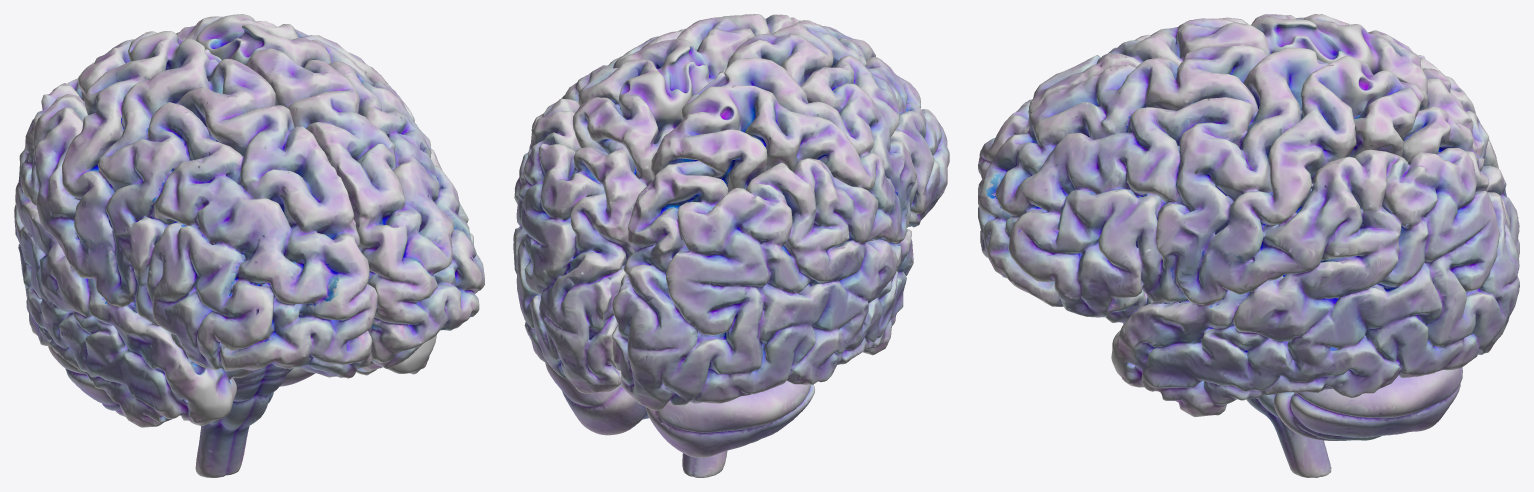
The model's file is brain.glb.
3 views of the same model, side by side, from view 1: azimuth 30°, elevation 25°; view 2: azimuth 150°, elevation 25°; view 3: azimuth 270°, elevation 25° (orthographic). The views are drawn at different scales.
Parts seen in each view (by area): view 1: cortex_r, cortex_l, dlpfc_r, dlpfc_l, brainstem, insula_r, ofc_r, cerebellum, ofc_l; view 2: cortex_r, cortex_l, cerebellum, dlpfc_r, brainstem, insula_r; view 3: cortex_l, cortex_r, dlpfc_l, cerebellum, brainstem, insula_l, ofc_l.
Part boxes in pixels (left/top/right/bottom): cortex_r: left=14, top=31, right=377, bottom=427; cortex_l: left=176, top=14, right=483, bottom=375; dlpfc_r: left=146, top=102, right=338, bottom=350; dlpfc_l: left=332, top=61, right=484, bottom=292; brainstem: left=195, top=363, right=293, bottom=477; insula_r: left=61, top=238, right=137, bottom=307; ofc_r: left=173, top=330, right=371, bottom=377; cerebellum: left=48, top=346, right=314, bottom=416; ofc_l: left=368, top=294, right=474, bottom=368; cortex_r: left=612, top=20, right=949, bottom=410; cortex_l: left=513, top=14, right=821, bottom=393; cerebellum: left=545, top=363, right=814, bottom=457; dlpfc_r: left=800, top=55, right=949, bottom=166; brainstem: left=682, top=451, right=727, bottom=477; insula_r: left=869, top=191, right=907, bottom=245; cortex_l: left=978, top=45, right=1519, bottom=416; cortex_r: left=978, top=14, right=1519, bottom=258; dlpfc_l: left=984, top=97, right=1257, bottom=282; cerebellum: left=1274, top=367, right=1462, bottom=440; brainstem: left=1246, top=394, right=1331, bottom=477; insula_l: left=1170, top=247, right=1272, bottom=308; ofc_l: left=980, top=232, right=1148, bottom=322.
Size of the model in its own units: 2.76 by 3.21 by 3.61.
